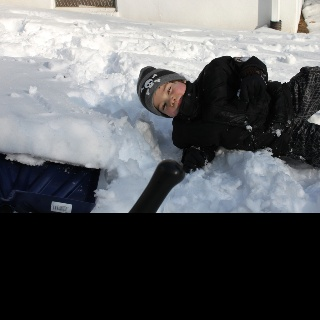without_mask: (152, 75, 185, 117)
